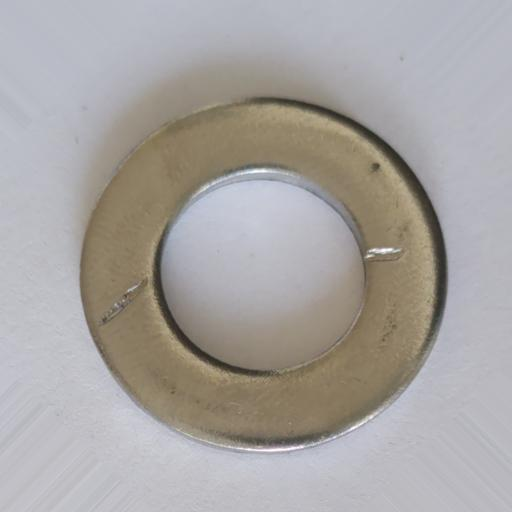scratch: (96, 275, 152, 328), (362, 244, 405, 263)
